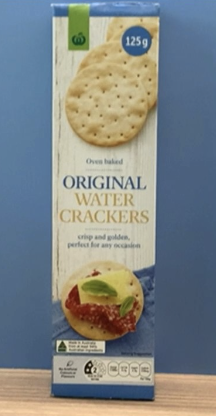crackers_150g: (55, 9, 154, 385)
